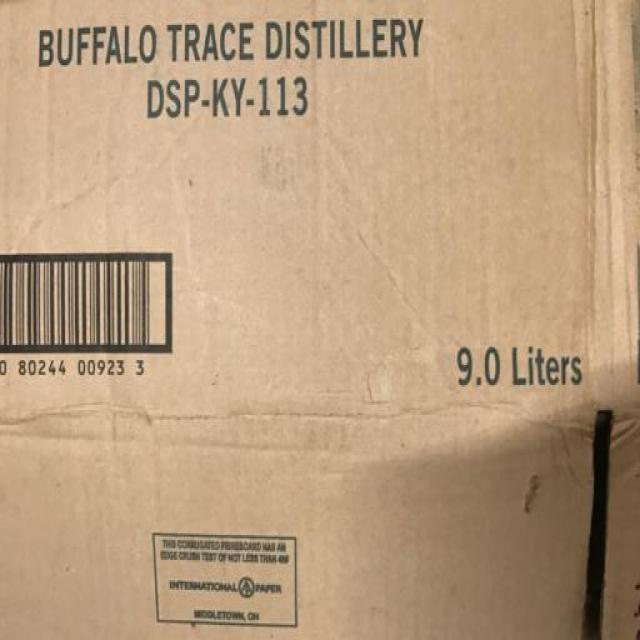Cardboard Paper: (0, 3, 637, 640)
